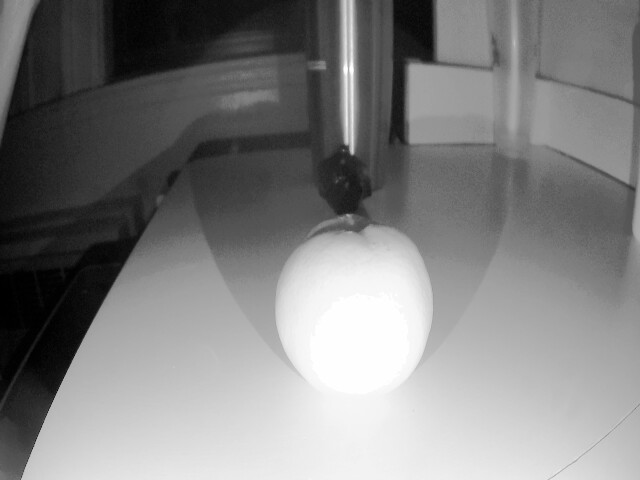silver: (309, 144, 370, 207)
